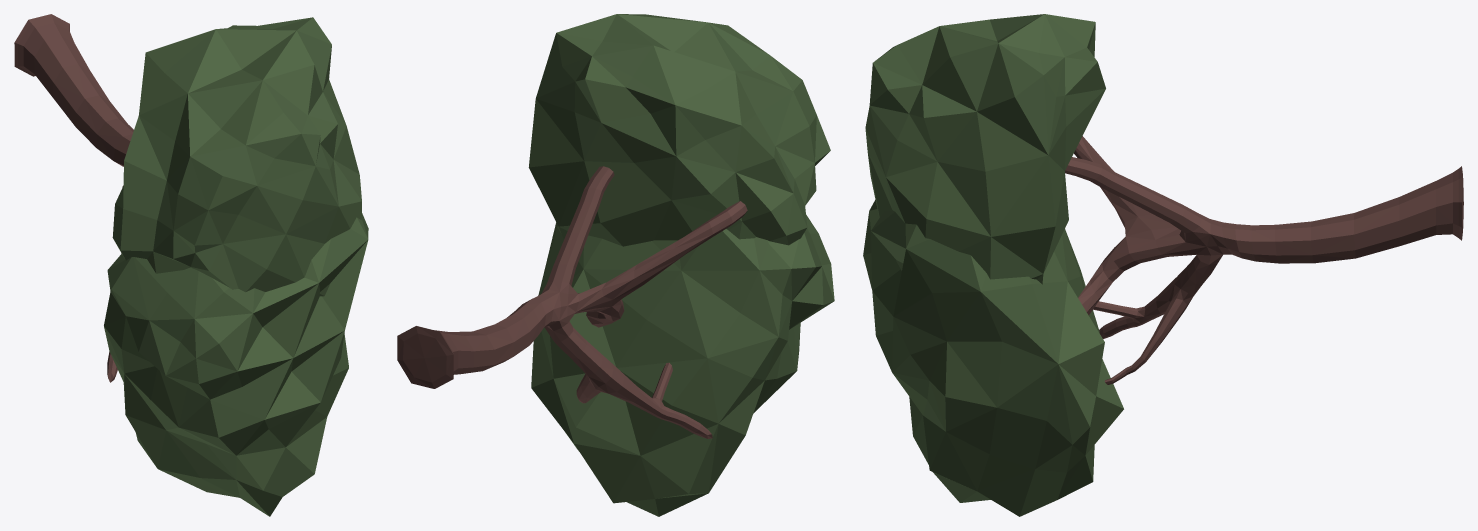
The model's file is tree-deciduous-5-38-ft.obj.
The picture shows the model from 3 angles, left to right: view 1: azimuth 30°, elevation 25°; view 2: azimuth 150°, elevation 25°; view 3: azimuth 270°, elevation 25°; orthographic projection. The views are drawn at different scales.
Visible parts, largest first — view 1: tree-deciduous-5-38-ft; view 2: tree-deciduous-5-38-ft; view 3: tree-deciduous-5-38-ft.
Part boxes in pixels (<box>): tree-deciduous-5-38-ft: <box>14,14,368,516</box>; tree-deciduous-5-38-ft: <box>397,14,834,516</box>; tree-deciduous-5-38-ft: <box>863,14,1463,516</box>.
Size of the model in its own units: 233 by 406 by 456.
